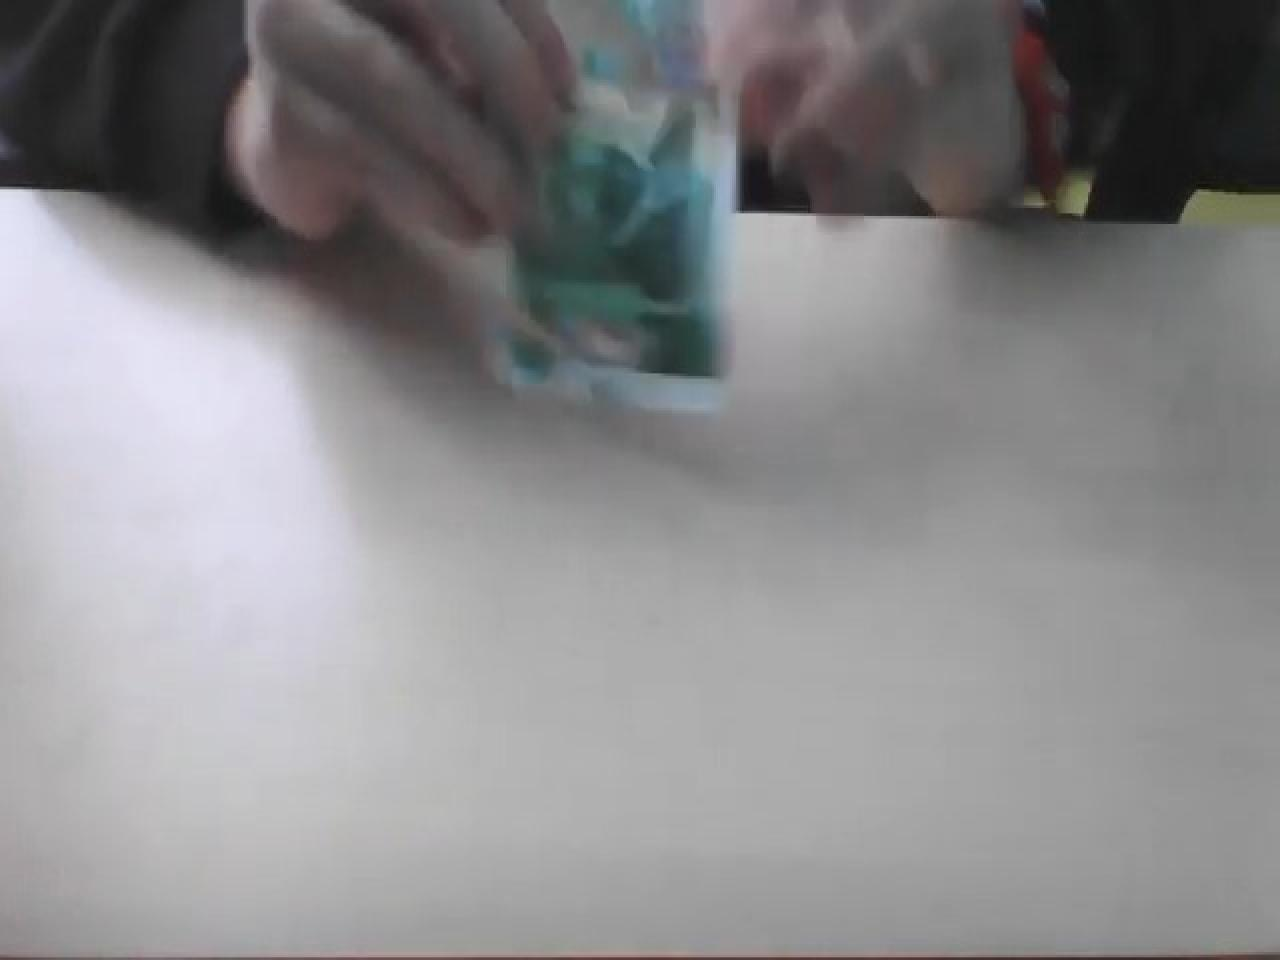100leva: (486, 3, 738, 416)
